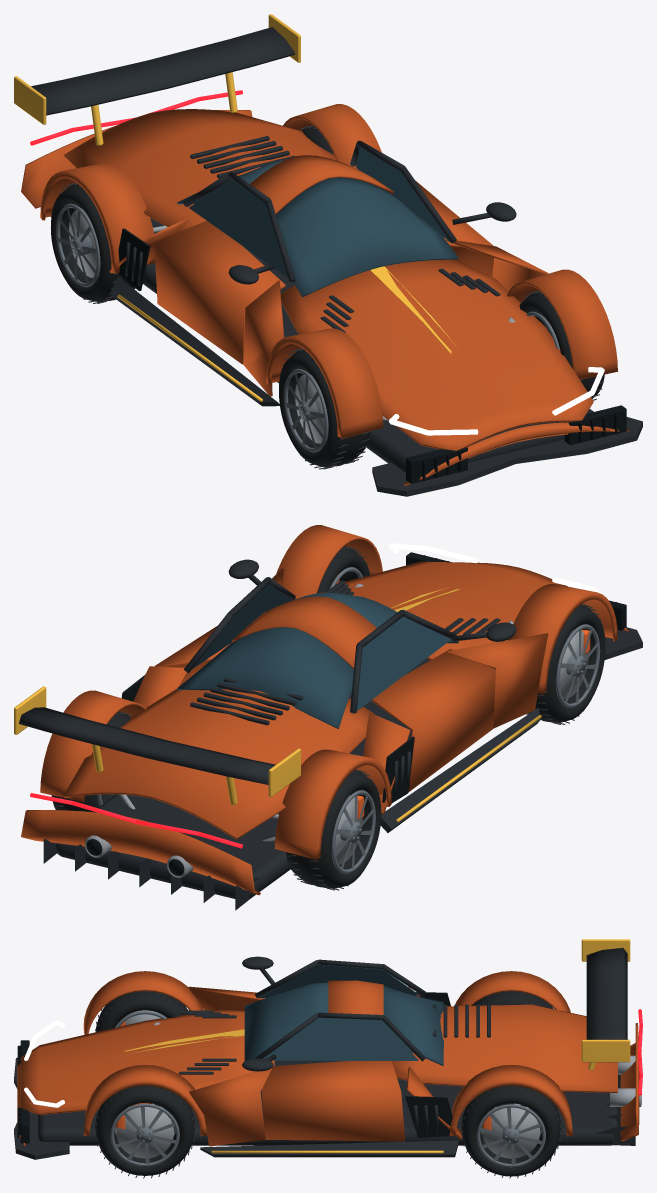
File: concept-asterion.glb
3 views of the same model, one above another, from view 1: azimuth 30°, elevation 25°; view 2: azimuth 150°, elevation 25°; view 3: azimuth 270°, elevation 25° (orthographic). The views are drawn at different scales.
Parts seen in each view (by area): view 1: Hood, RearDeckEngineCover, WindscreenGlass, SculptedWheelArchL, DoorL, Wing, SculptedWheelArchR, FrontSplitter, SideGlassL, WheelFrontL_Tire, CarbonMonocoqueUndertray, SidePanelL (+25 smaller); view 2: RearDeckEngineCover, SculptedWheelArchL, Hood, DoorL, RearGlass, SculptedWheelArchR, CarbonMonocoqueUndertray, BumperRear, SidePanelL, Wing, Roof, SideGlassL (+26 smaller); view 3: Hood, RearDeckEngineCover, DoorR, CarbonMonocoqueUndertray, SculptedWheelArchR, SideGlassR, SculptedWheelArchL, SidePanelR, WheelRearR_Tire, WheelFrontR_Tire, Wing, WindscreenGlass (+28 smaller).
Part boxes in pixels (x1=…): Hood: x1=281, y1=259, x2=593, y2=450; RearDeckEngineCover: x1=63, y1=109, x2=337, y2=232; WindscreenGlass: x1=276, y1=177, x2=458, y2=297; SculptedWheelArchL: x1=40, y1=163, x2=383, y2=438; DoorL: x1=154, y1=220, x2=285, y2=364; Wing: x1=31, y1=27, x2=294, y2=115; SculptedWheelArchR: x1=283, y1=104, x2=617, y2=379; FrontSplitter: x1=372, y1=417, x2=642, y2=496; SideGlassL: x1=189, y1=179, x2=288, y2=277; WheelFrontL_Tire: x1=279, y1=350, x2=370, y2=467; CarbonMonocoqueUndertray: x1=143, y1=218, x2=593, y2=472; SidePanelL: x1=109, y1=217, x2=284, y2=396; RearDeckEngineCover: x1=63, y1=689, x2=373, y2=839; SculptedWheelArchL: x1=274, y1=584, x2=617, y2=859; Hood: x1=317, y1=561, x2=567, y2=660; DoorL: x1=371, y1=649, x2=495, y2=792; RearGlass: x1=177, y1=627, x2=353, y2=728; SculptedWheelArchR: x1=40, y1=525, x2=382, y2=801; CarbonMonocoqueUndertray: x1=56, y1=658, x2=494, y2=898; BumperRear: x1=21, y1=810, x2=260, y2=895; SidePanelL: x1=363, y1=633, x2=548, y2=813; Wing: x1=19, y1=707, x2=275, y2=784; Roof: x1=231, y1=596, x2=376, y2=668; SideGlassL: x1=357, y1=616, x2=450, y2=710; Hood: x1=20, y1=1009, x2=274, y2=1115; RearDeckEngineCover: x1=392, y1=1004, x2=617, y2=1092; DoorR: x1=261, y1=1061, x2=404, y2=1141; CarbonMonocoqueUndertray: x1=38, y1=1060, x2=618, y2=1145; SculptedWheelArchR: x1=83, y1=1065, x2=572, y2=1136; SideGlassR: x1=263, y1=1017, x2=418, y2=1060; SculptedWheelArchL: x1=83, y1=971, x2=570, y2=1034; SidePanelR: x1=189, y1=1066, x2=461, y2=1146; WheelRearR_Tire: x1=461, y1=1085, x2=561, y2=1176; WheelFrontR_Tire: x1=95, y1=1085, x2=194, y2=1175; Wing: x1=586, y1=948, x2=627, y2=1039; WindscreenGlass: x1=244, y1=982, x2=328, y2=1060.
Size of the model in its own units: 2.07 by 1.22 by 4.91.
